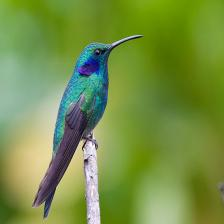Beak: (108, 35, 143, 50)
BirdBody: (32, 35, 141, 218)
Chest: (89, 80, 108, 131)
Foot: (82, 136, 98, 151)
GreenBGD: (0, 1, 224, 223)
Head: (72, 35, 144, 80)
Wing: (32, 79, 98, 207), (44, 189, 55, 220)
WoodBGD: (82, 131, 101, 223)
